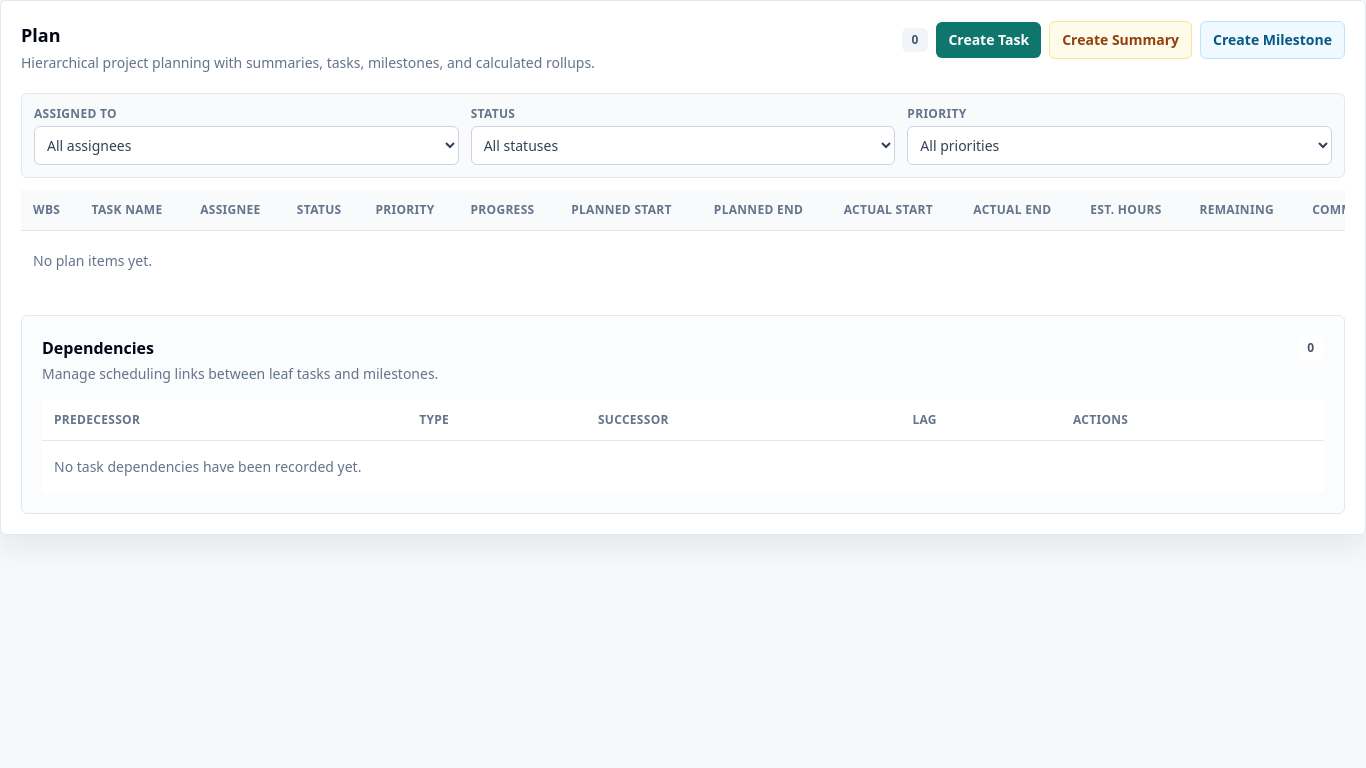
Test: AppModal usability › keeps task save actions outside the scrollable form body
The width and height of the screenshot is (1366, 768).
Click the button "Create Task" at (989, 40), box left=936, top=22, right=1041, bottom=58
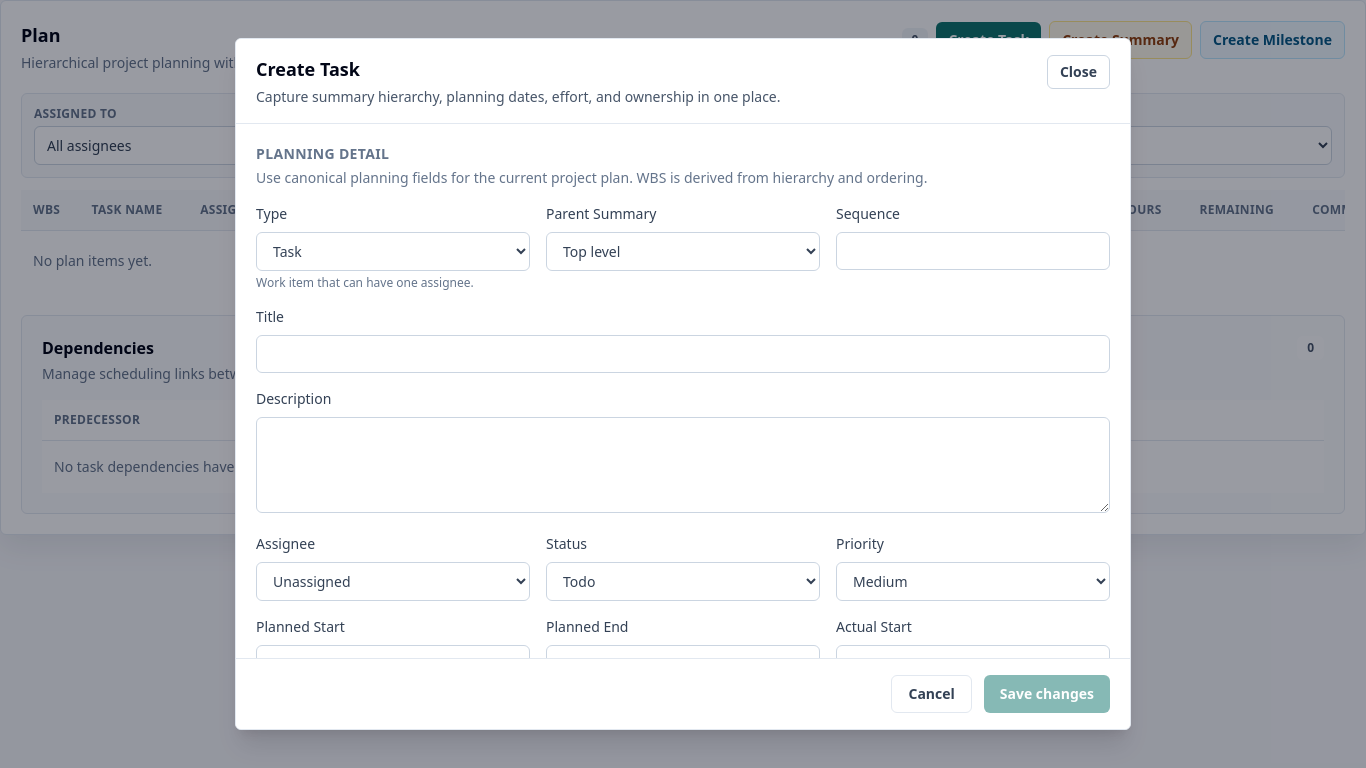
Check: the button "Save changes" is shown, box left=984, top=675, right=1110, bottom=713
Check: the button "Cancel" is shown, box left=892, top=675, right=972, bottom=713
